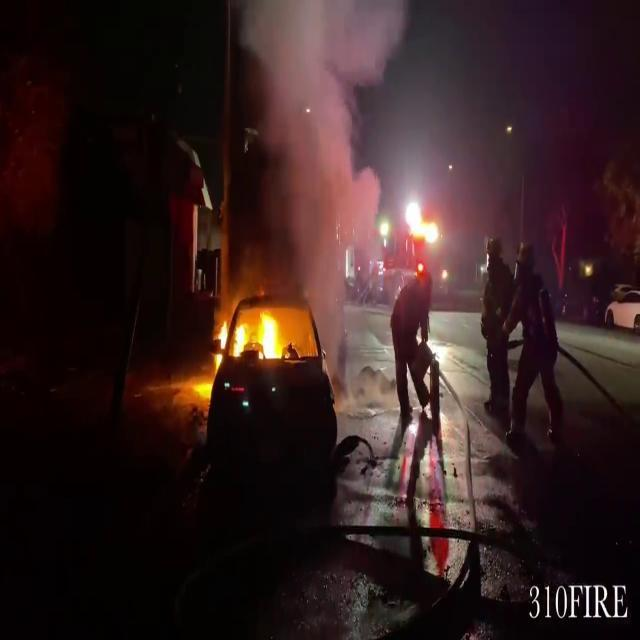Fire: (214, 294, 288, 369)
Smoke: (228, 0, 396, 310)
